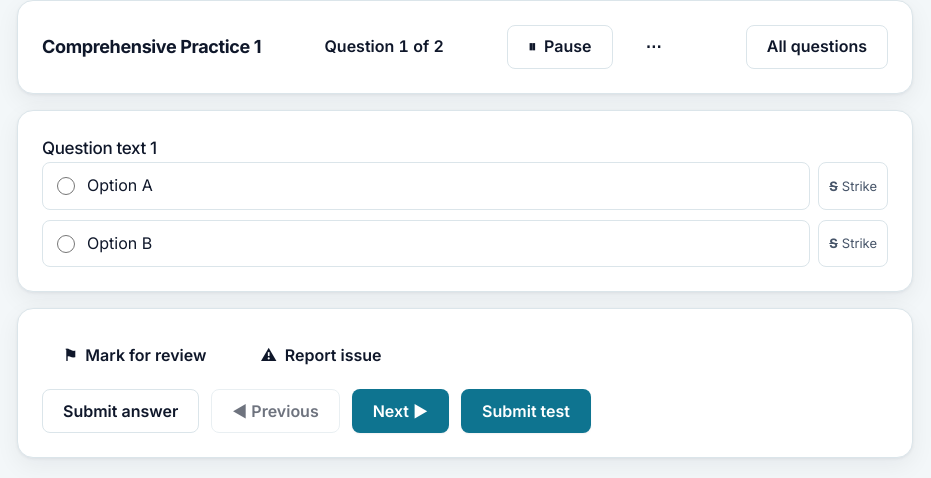
Test case: AttemptPlayer › moves to the next question
The image size is (931, 478).
Click the button "Next ▶".
click(400, 411)  # box 352,389 -> 449,433
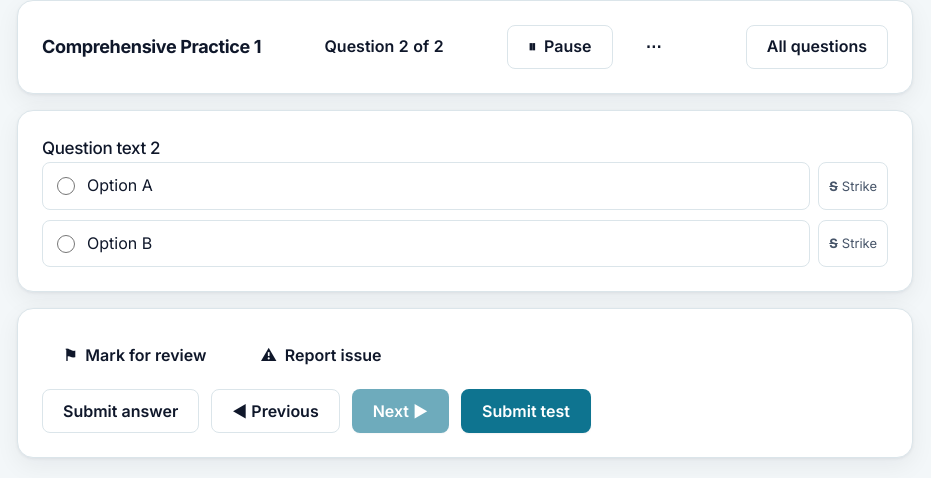
Now the heading "Question text 2" is shown, box 42,138 -> 160,158
Now the text "Question 2 of 2" is shown, box 324,34 -> 444,60
